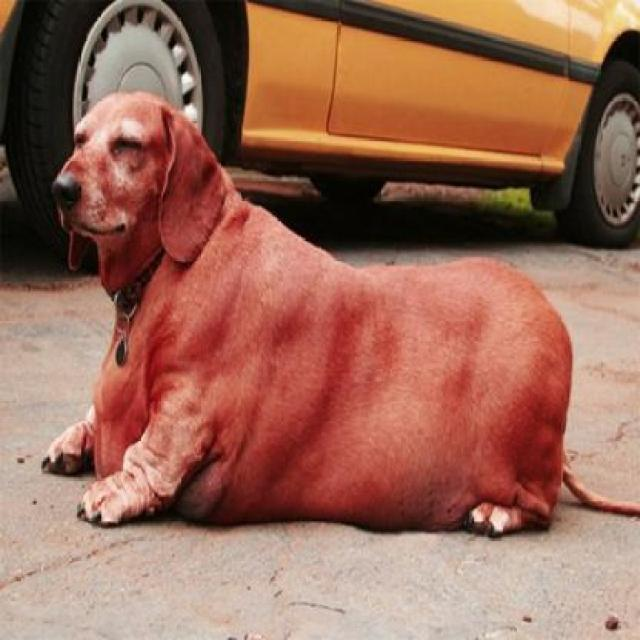Dog: (37, 90, 638, 552)
